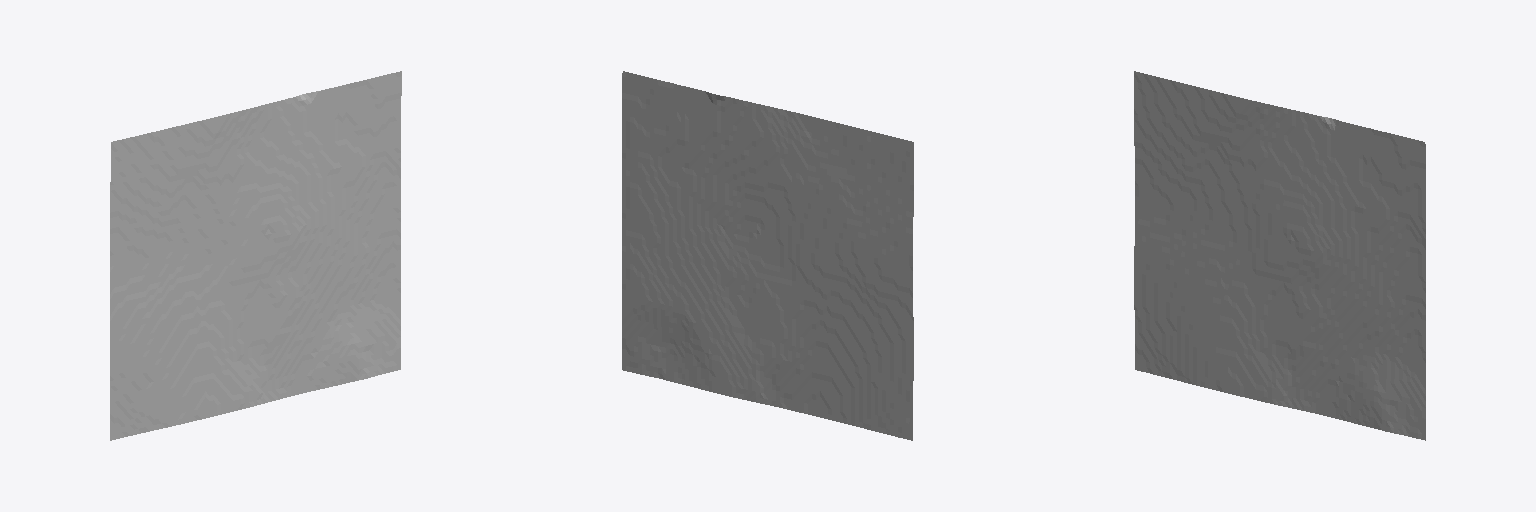
The model's file is terrain.obj.
3 renders of one model, left to right at view 1: azimuth 30°, elevation 25°; view 2: azimuth 150°, elevation 25°; view 3: azimuth 330°, elevation 25°, orthographic.
Visible parts, largest first — view 1: Terrain; view 2: Terrain; view 3: Terrain.
Boxes of the visible parts, box(x1,y1,x2,y2) form: Terrain: box(110, 71, 401, 440); Terrain: box(622, 71, 913, 440); Terrain: box(1134, 71, 1425, 440).
Bounding box in the file's own units: 1733 × 1701 × 16.